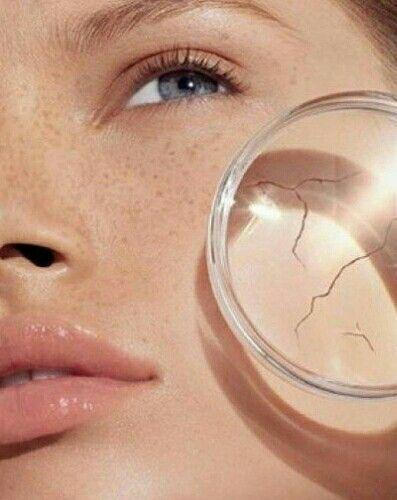Dry-Skin: (248, 136, 396, 366)
